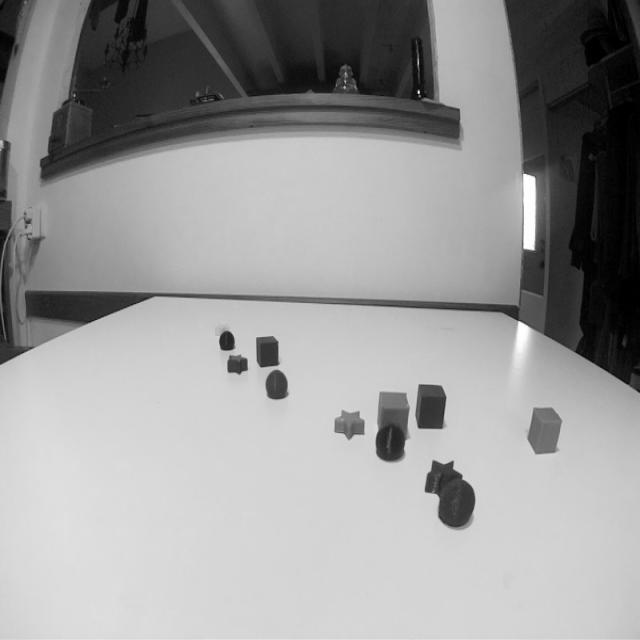ball: (437, 476, 477, 532), (374, 418, 407, 464), (264, 368, 291, 404), (218, 328, 237, 354)
cube: (526, 400, 562, 460), (375, 386, 411, 439), (415, 381, 447, 434), (254, 332, 282, 369)
star: (422, 455, 465, 502), (330, 404, 368, 444), (226, 351, 250, 378), (212, 319, 232, 336)
